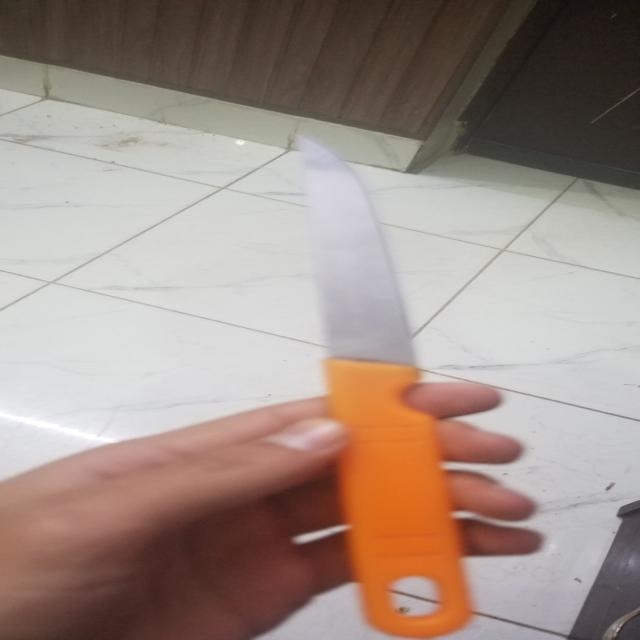weapon: (243, 116, 487, 640)
